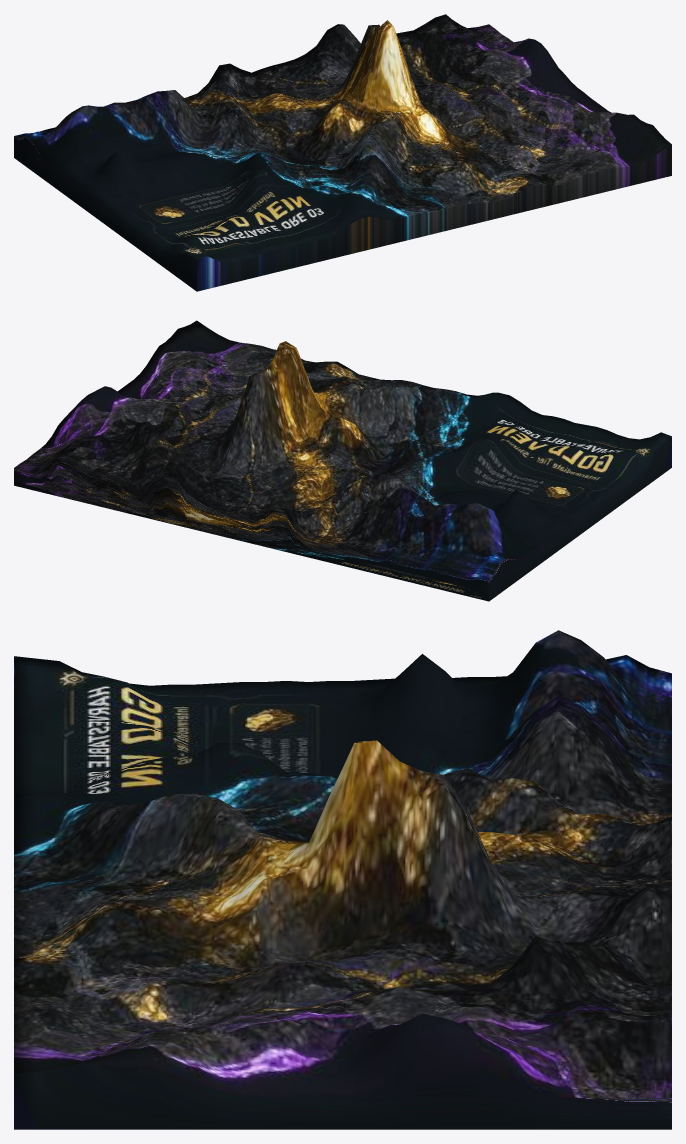
File: ORE_03_Gold_Vein.glb
The picture shows the model from 3 angles, top to bottom: view 1: azimuth 30°, elevation 25°; view 2: azimuth 150°, elevation 25°; view 3: azimuth 270°, elevation 25°; orthographic projection. The views are drawn at different scales.
Parts seen in each view (by area): view 1: ORE_03_Gold_Vein; view 2: ORE_03_Gold_Vein; view 3: ORE_03_Gold_Vein.
Part boxes in pixels (x1=…): ORE_03_Gold_Vein: x1=14, y1=14, x2=671, y2=291; ORE_03_Gold_Vein: x1=14, y1=320, x2=671, y2=601; ORE_03_Gold_Vein: x1=14, y1=630, x2=671, y2=1129.
Size of the model in its own units: 2 by 0.51 by 1.33.
Materials: 1 (1 with a texture image).
